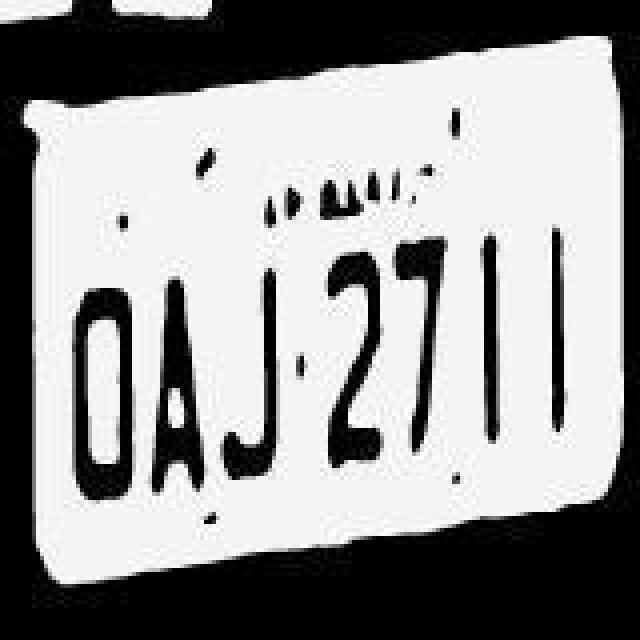1: (530, 208, 582, 472), (462, 206, 514, 466)
2: (314, 238, 390, 490)
7: (390, 226, 458, 462)
A: (142, 250, 210, 502)
J: (220, 254, 292, 490)
O: (66, 264, 142, 520)
